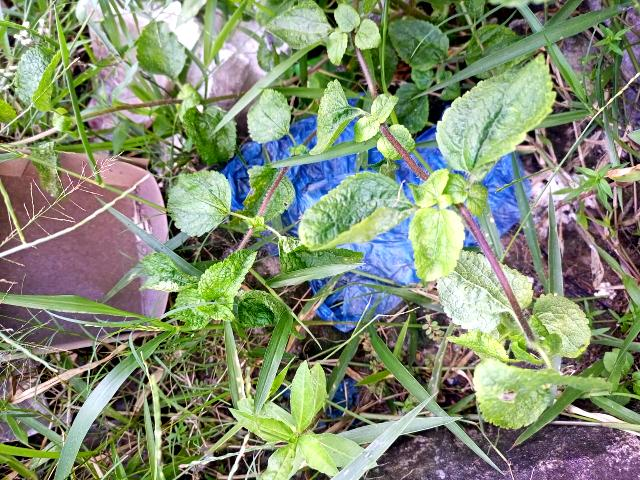polythene: (191, 13, 576, 374)
